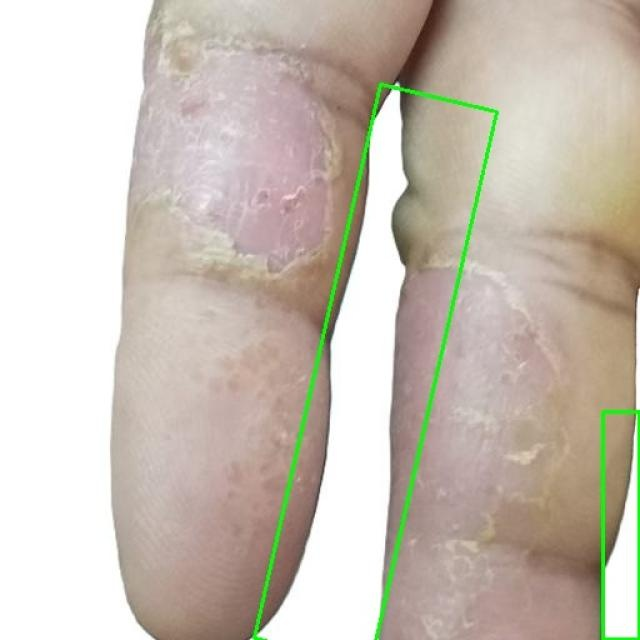Eczema: (254, 85, 497, 640), (602, 411, 639, 639)
